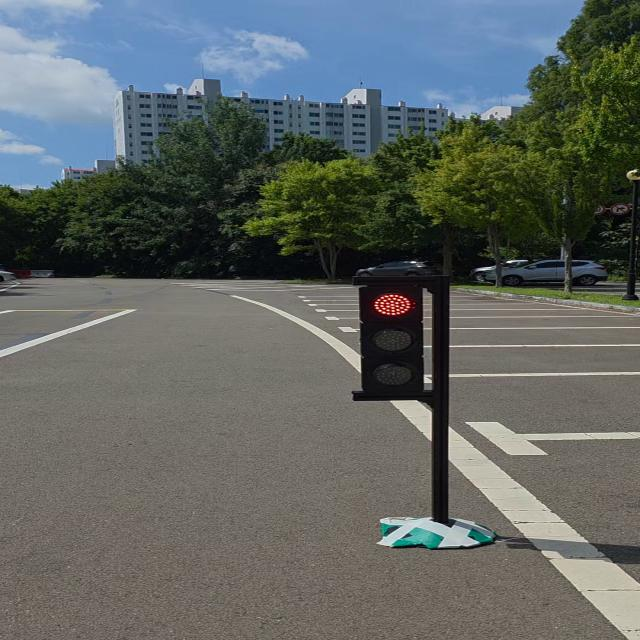red: (351, 279, 434, 397)
